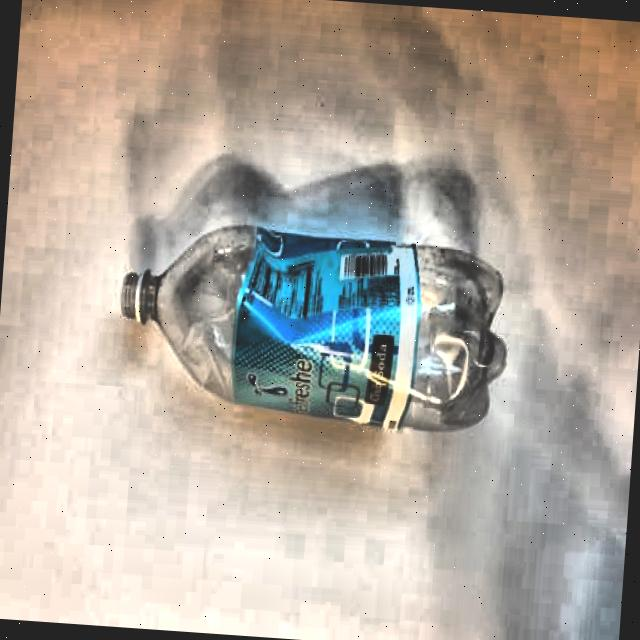plastic: (112, 211, 512, 433)
